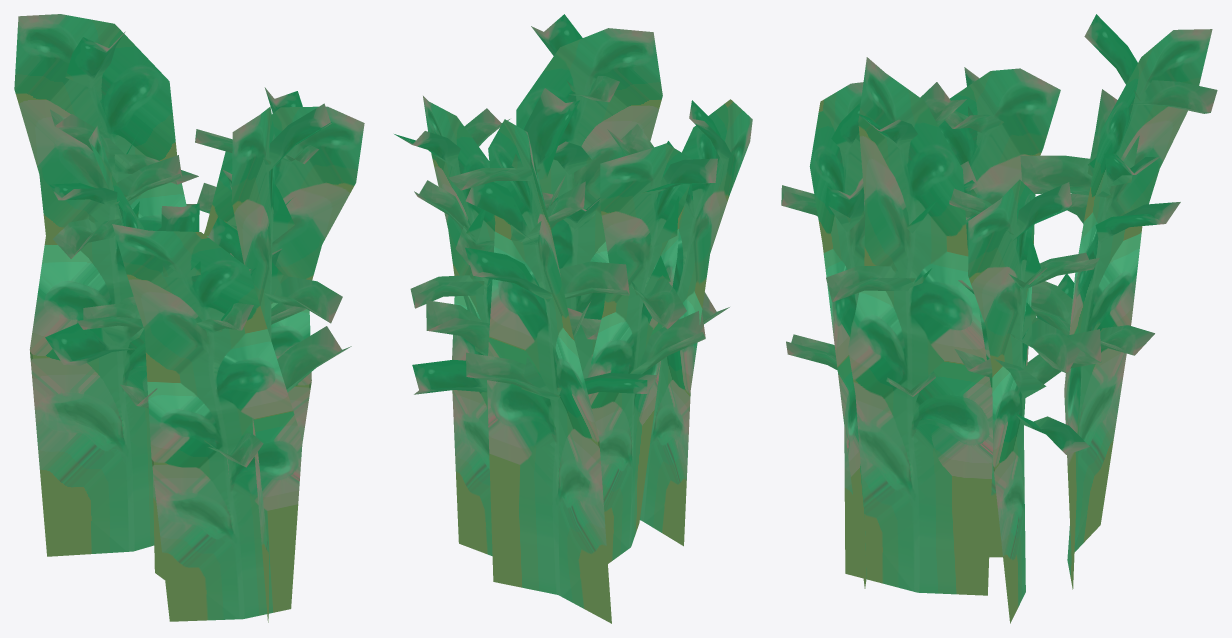
File: SM_Plant_02_03.fbx
The picture shows the model from 3 angles, left to right: view 1: azimuth 30°, elevation 25°; view 2: azimuth 150°, elevation 25°; view 3: azimuth 270°, elevation 25°; orthographic projection. The views are drawn at different scales.
Parts seen in each view (by area): view 1: SM_Plant_02_03_LOD0; view 2: SM_Plant_02_03_LOD0; view 3: SM_Plant_02_03_LOD0.
Boxes of the visible parts, x1,y1,x2,y2 form: SM_Plant_02_03_LOD0: [14, 14, 364, 622]; SM_Plant_02_03_LOD0: [394, 14, 752, 623]; SM_Plant_02_03_LOD0: [781, 14, 1217, 623].
Size of what is drawn, in the model's own units: 51.49 by 84.36 by 63.17.
